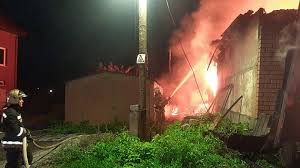fire: (146, 40, 233, 116)
